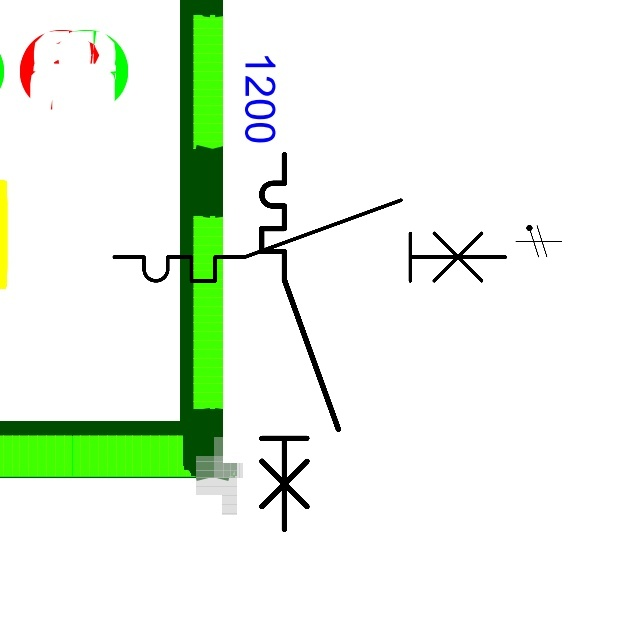interruptor_termomagnetico: (104, 190, 515, 291), (252, 145, 348, 539)
